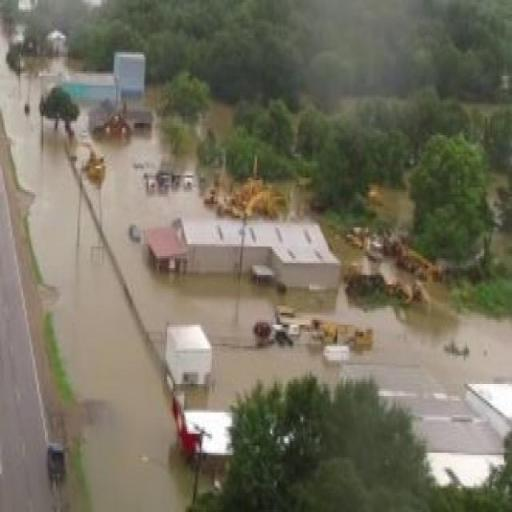flood: (0, 26, 512, 512), (330, 241, 414, 282), (185, 99, 234, 136), (273, 182, 317, 220), (373, 189, 413, 224)
house: (262, 220, 343, 289), (178, 406, 240, 462), (463, 380, 512, 450), (166, 323, 212, 389), (88, 98, 131, 140)
